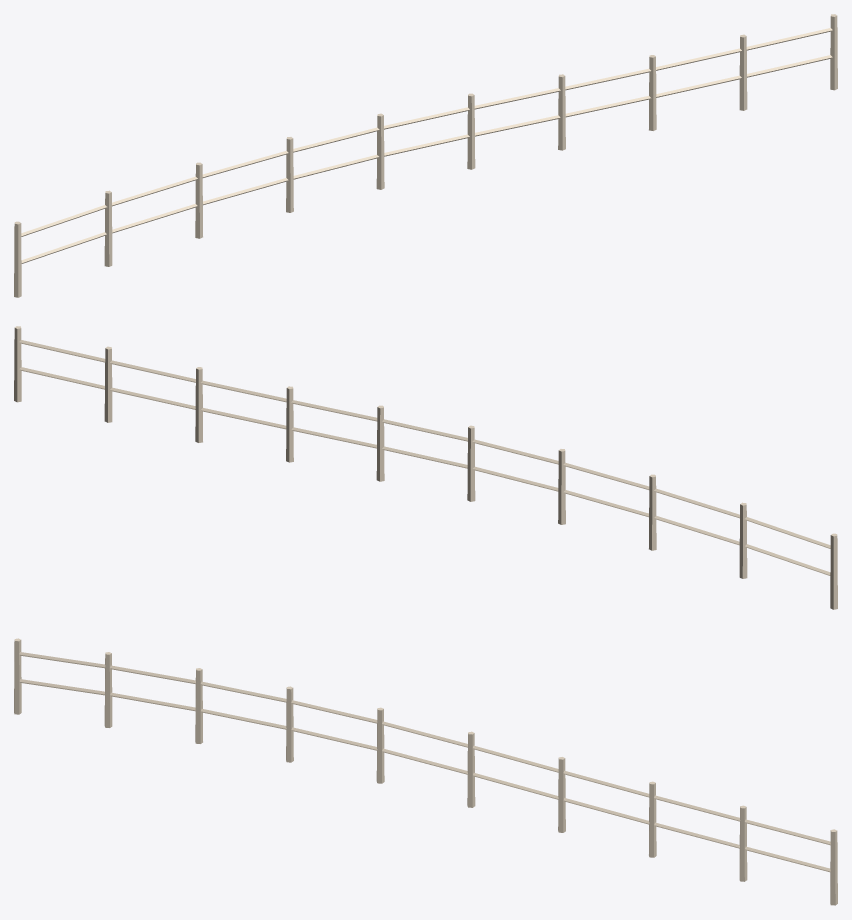
3 renders of one model, top to bottom at view 1: azimuth 30°, elevation 25°; view 2: azimuth 150°, elevation 25°; view 3: azimuth 330°, elevation 25°, orthographic.
Parts seen in each view (by area): view 1: WB_fence_105_166; view 2: WB_fence_105_166; view 3: WB_fence_105_166.
Boxes of the visible parts, box(x1,y1,x2,y2) form: WB_fence_105_166: box(14, 14, 837, 297); WB_fence_105_166: box(14, 326, 837, 609); WB_fence_105_166: box(14, 638, 837, 905).
Size of the model in its own units: 15.88 by 1.71 by 0.1331.
